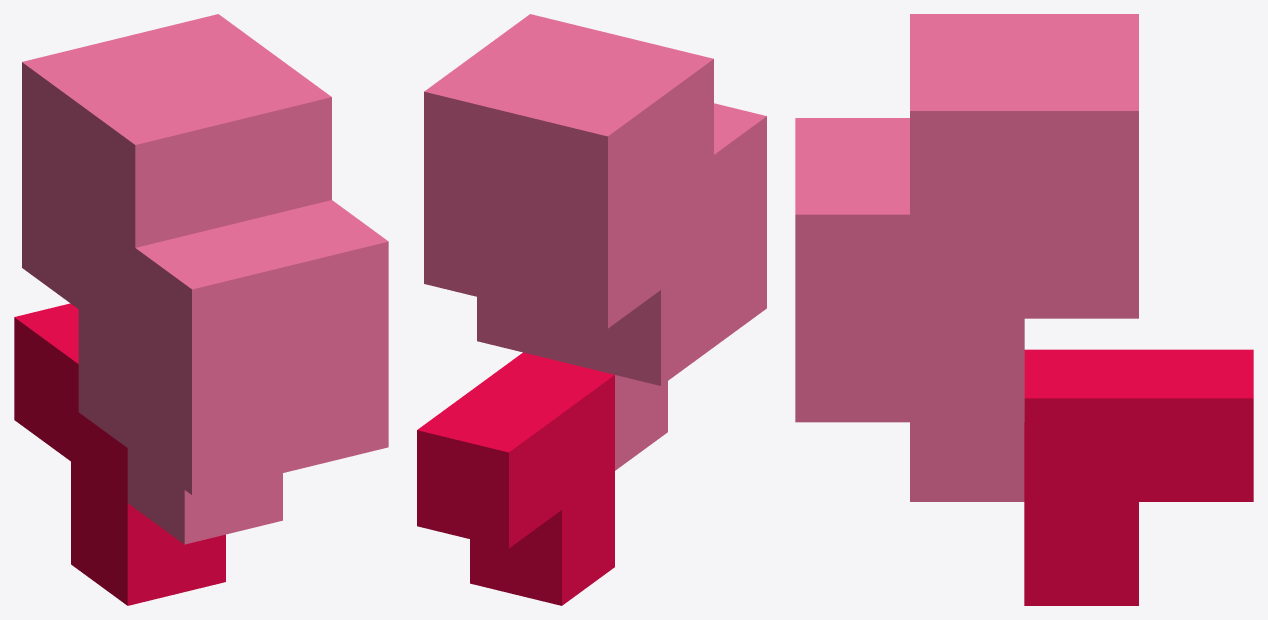
Rendered from shrimp.gltf.
3 views of the same model, side by side, from view 1: azimuth 30°, elevation 25°; view 2: azimuth 150°, elevation 25°; view 3: azimuth 270°, elevation 25° (orthographic). The views are drawn at different scales.
Parts seen in each view (by area): view 1: shrimp-Local, tail-Local, se-Local; view 2: shrimp-Local, tail-Local, se-Local; view 3: shrimp-Local, tail-Local, se-Local.
Part boxes in pixels (x1,y1,x2,y2): shrimp-Local: (22, 14, 388, 495); tail-Local: (14, 303, 225, 605); se-Local: (127, 448, 282, 544); shrimp-Local: (424, 14, 766, 385); tail-Local: (417, 352, 614, 605); se-Local: (615, 375, 667, 470); shrimp-Local: (795, 14, 1138, 422); tail-Local: (1024, 349, 1253, 605); se-Local: (910, 422, 1024, 501).
Bounding box in the file's own units: 2 × 5 × 4.
Materials: 3 (3 with a texture image).
